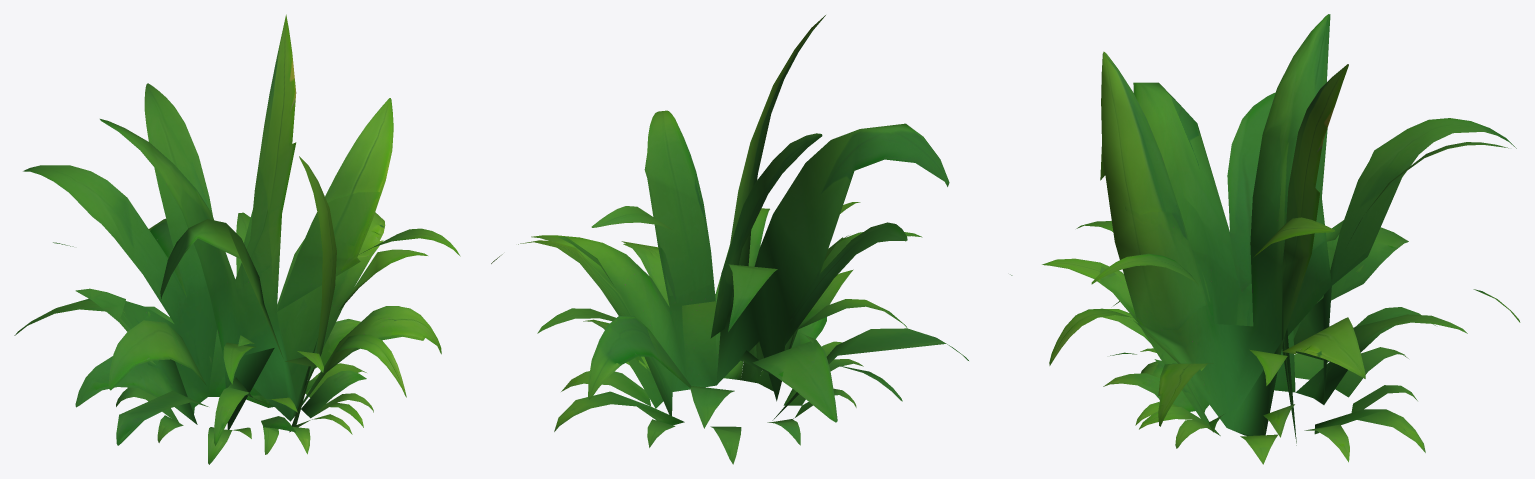
Rendered from grass.glb.
3 renders of one model, left to right at view 1: azimuth 30°, elevation 25°; view 2: azimuth 150°, elevation 25°; view 3: azimuth 270°, elevation 25°, orthographic. The views are drawn at different scales.
Parts seen in each view (by area): view 1: tripo_57eb9efd_7a4a_493e_9351_edc7dc988a74; view 2: tripo_57eb9efd_7a4a_493e_9351_edc7dc988a74; view 3: tripo_57eb9efd_7a4a_493e_9351_edc7dc988a74.
Part boxes in pixels (x1,y1,x2,y2): tripo_57eb9efd_7a4a_493e_9351_edc7dc988a74: (14, 14, 460, 464); tripo_57eb9efd_7a4a_493e_9351_edc7dc988a74: (491, 15, 1012, 464); tripo_57eb9efd_7a4a_493e_9351_edc7dc988a74: (1042, 14, 1520, 464).
Bounding box in the file's own units: 0.9995 × 0.9087 × 0.9761.
1 material, 1 textured.
